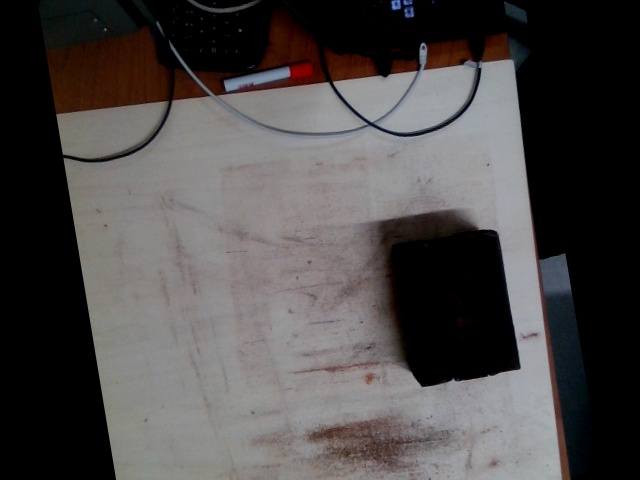brick-side: (466, 233, 520, 372), (432, 238, 486, 377), (397, 242, 451, 381)
